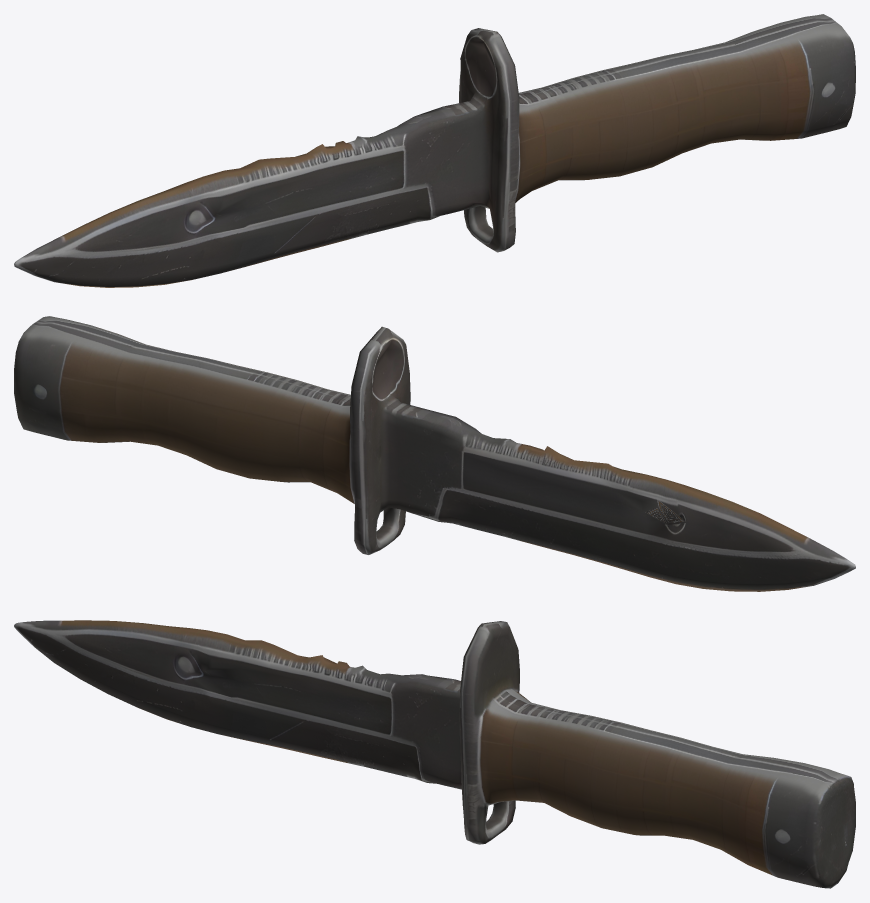
The model's file is cuchillo.fbx.
The picture shows the model from 3 angles, top to bottom: view 1: azimuth 30°, elevation 25°; view 2: azimuth 150°, elevation 25°; view 3: azimuth 330°, elevation 25°; orthographic projection.
Visible parts, largest first — view 1: cuchillo; view 2: cuchillo; view 3: cuchillo.
Boxes of the visible parts, left/top/right/bottom form: cuchillo: left=14, top=14, right=855, bottom=287; cuchillo: left=14, top=316, right=855, bottom=591; cuchillo: left=14, top=620, right=855, bottom=888.
Size of the model in its own units: 99.81 by 24.77 by 10.33.
